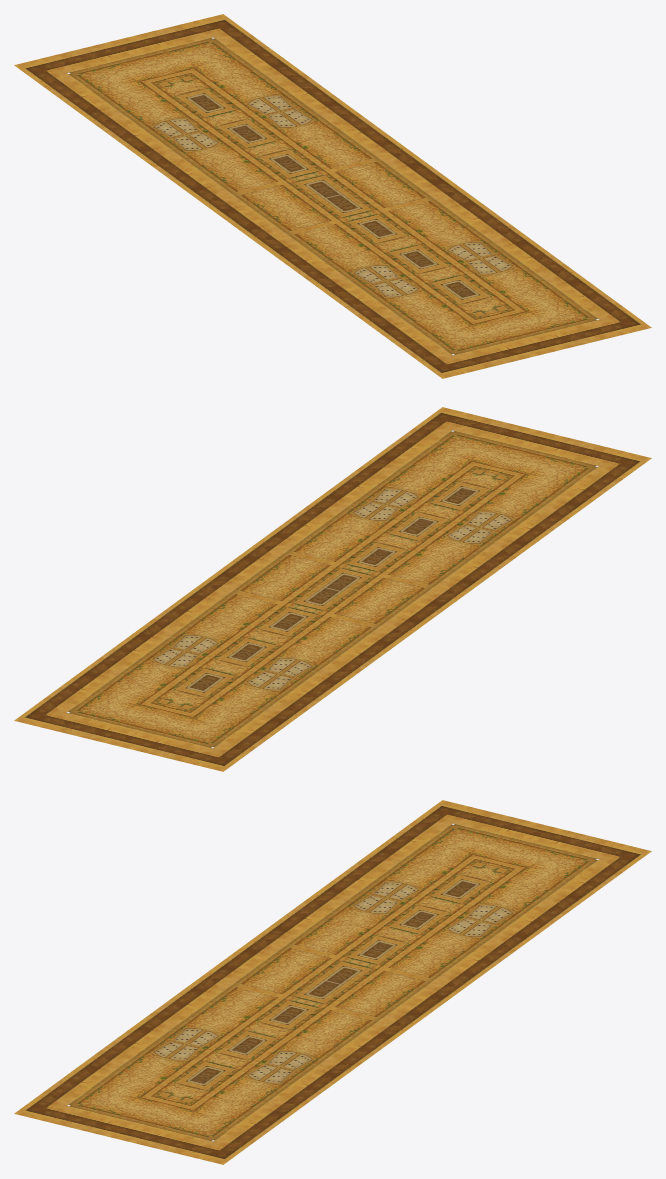
The model's file is Stage_ZhuCheng_ZhiLu.FBX.
The picture shows the model from 3 angles, top to bottom: view 1: azimuth 30°, elevation 25°; view 2: azimuth 150°, elevation 25°; view 3: azimuth 330°, elevation 25°; orthographic projection.
Visible parts, largest first — view 1: Stage_ZhuCheng_ZhiLu; view 2: Stage_ZhuCheng_ZhiLu; view 3: Stage_ZhuCheng_ZhiLu.
Part boxes in pixels (box(x1,y1,x2,y2)): Stage_ZhuCheng_ZhiLu: box(14, 14, 651, 378); Stage_ZhuCheng_ZhiLu: box(14, 407, 651, 771); Stage_ZhuCheng_ZhiLu: box(14, 800, 651, 1164).
Bounding box in the file's own units: 745 × 1.62e-13 × 2640.
